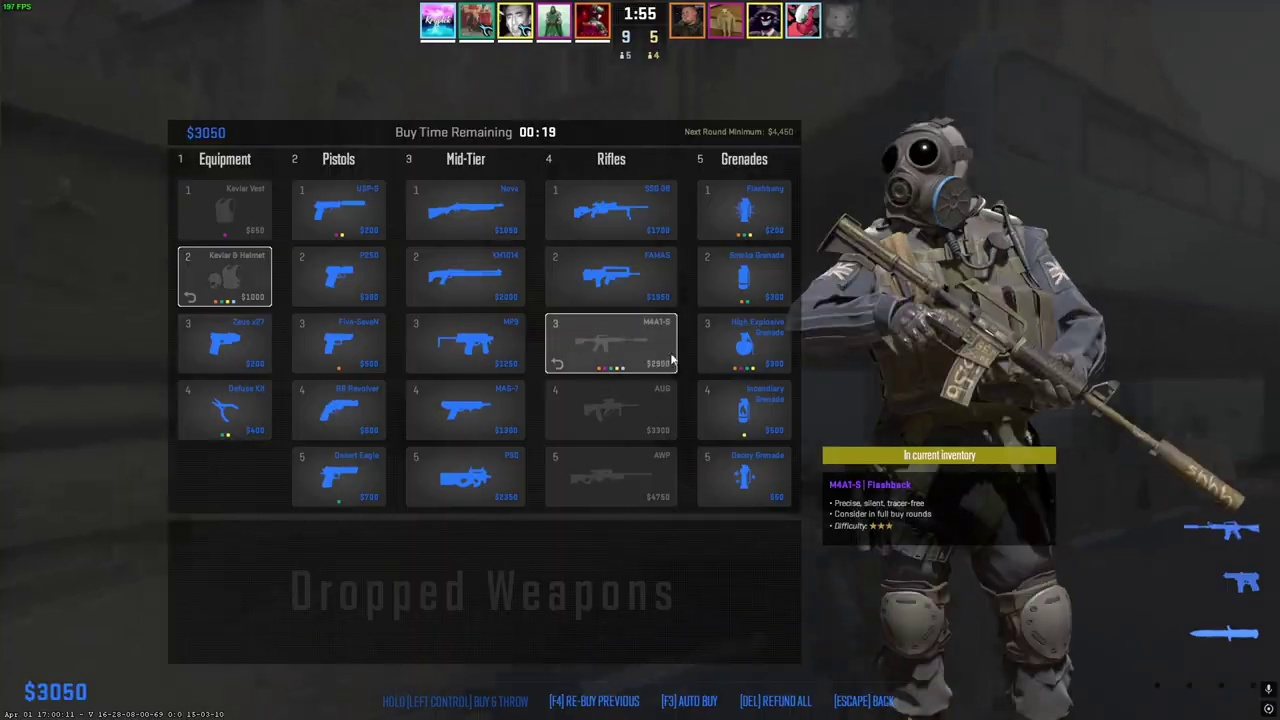CT: (845, 121, 1088, 720)
